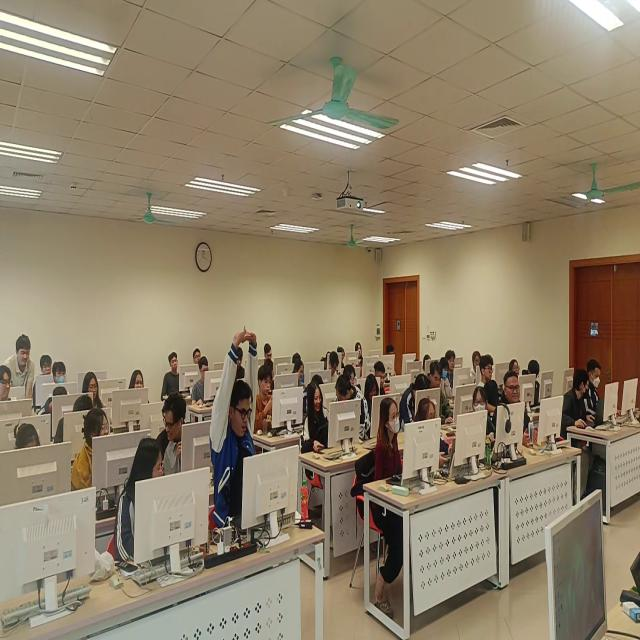raise_hand: (209, 325, 260, 533)
raise_head: (489, 373, 539, 450), (375, 397, 404, 486), (33, 354, 55, 412), (160, 350, 182, 400), (1, 358, 19, 403), (446, 349, 460, 390), (480, 351, 495, 388), (51, 359, 70, 385), (129, 366, 146, 391), (472, 350, 483, 387), (508, 358, 523, 374), (355, 340, 363, 367), (193, 344, 202, 365)
stand: (7, 333, 39, 398)
using_computer: (52, 395, 96, 447), (430, 360, 454, 425), (191, 355, 212, 409), (38, 385, 72, 418), (81, 370, 108, 410), (12, 419, 42, 455), (364, 371, 382, 419), (525, 360, 542, 406), (441, 358, 456, 400), (375, 362, 389, 396), (386, 344, 400, 377), (328, 351, 342, 383), (344, 364, 358, 387), (237, 347, 246, 381), (337, 342, 347, 370), (263, 338, 273, 364), (423, 353, 432, 376), (322, 351, 330, 373), (313, 374, 325, 386), (293, 349, 302, 364), (414, 356, 421, 369)
using_phone: (413, 396, 453, 476), (255, 363, 275, 438)
